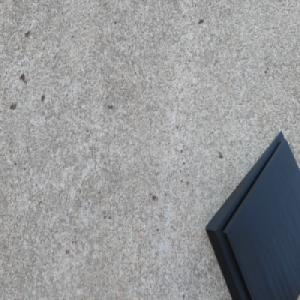PlasticPart: (204, 129, 300, 300)
